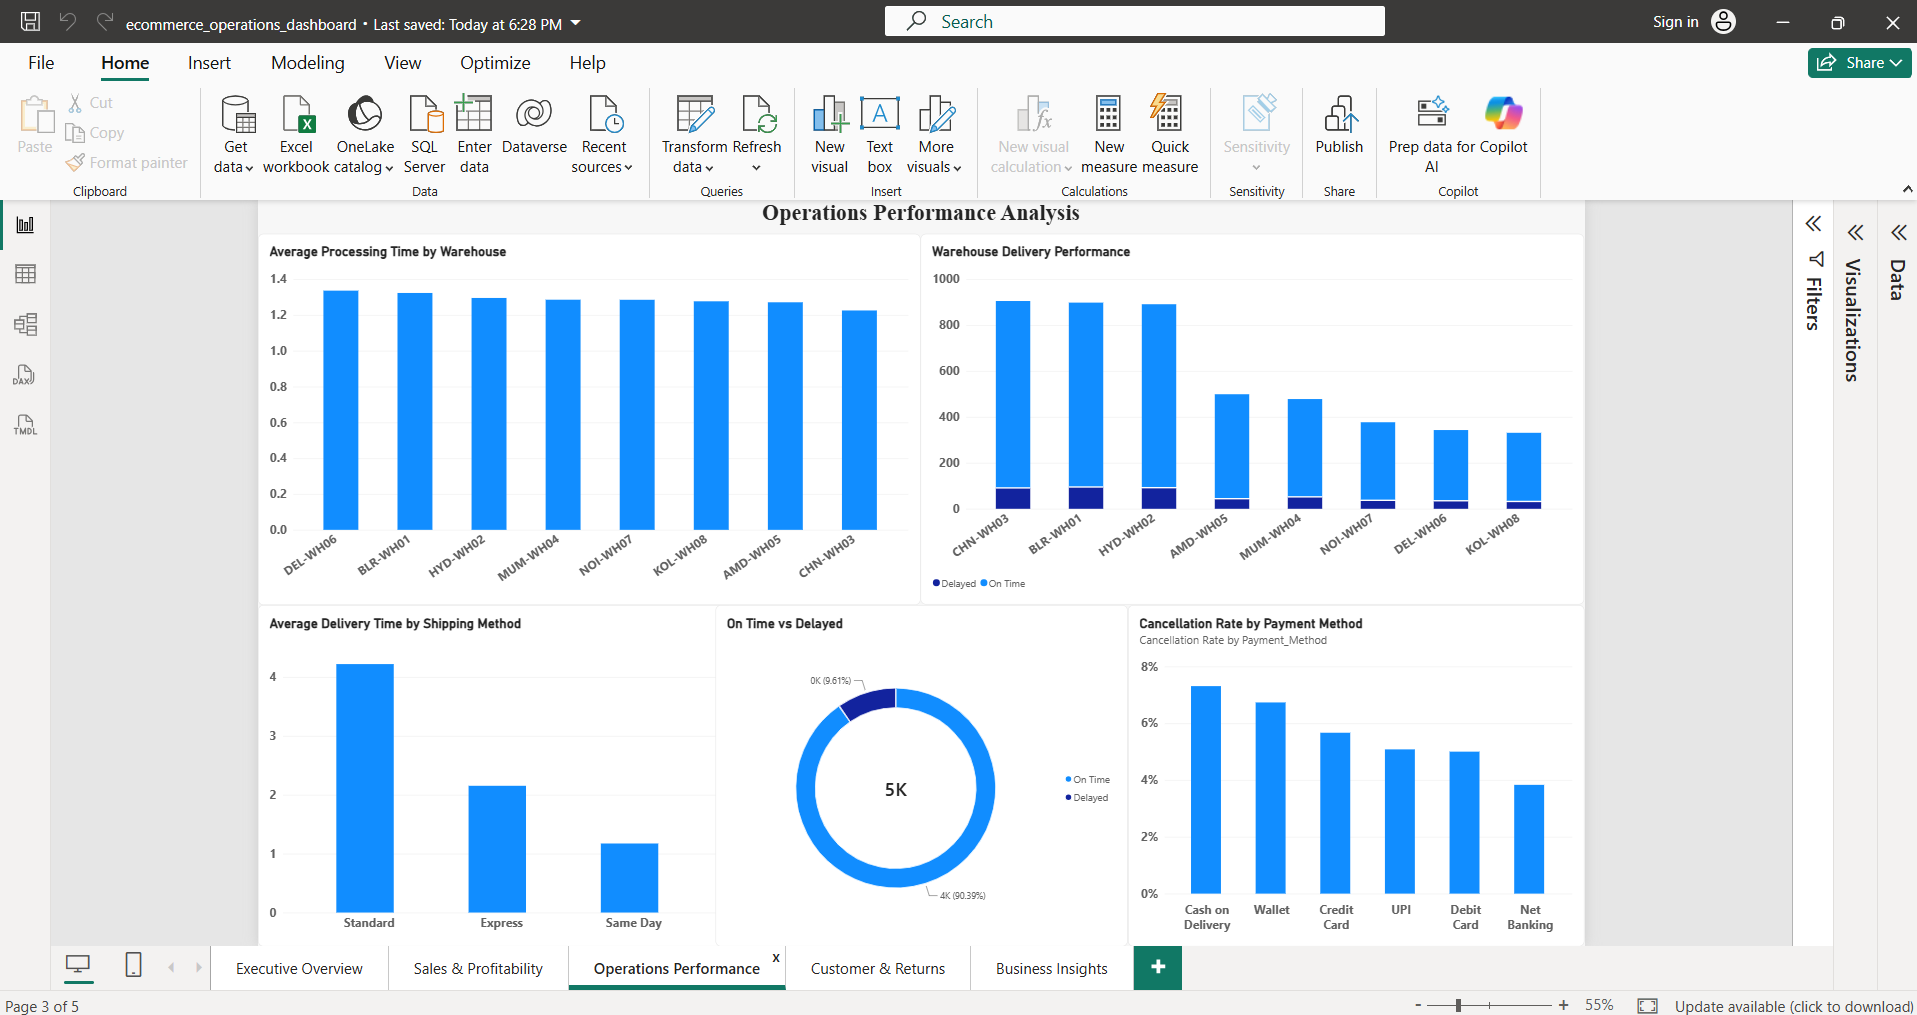

The page's visual inventory and layout, read from the dashboard file:
{"tool":"powerbi","page":{"name":"Operations Performance","canvas":[1920,1080],"ordinal":2},"visuals":[{"type":"textbox","box":[0,0,1920.1,48.9],"z":0},{"type":"clusteredColumnChart","title":"Average Processing Time by Warehouse","fields":{"Category":["ecommerce_operations_analytics.Warehouse"],"Y":["Avg(ecommerce_operations_analytics.Processing_Time_Days)"]},"box":[0,48.9,959.1,537.5],"z":1000},{"type":"clusteredColumnChart","title":"Average Delivery Time by Shipping Method","fields":{"Category":["ecommerce_operations_analytics.Shipping_Method"],"Y":["Avg(ecommerce_operations_analytics.Delivery_Time_Days)"]},"box":[0,586.3,685.9,494],"z":2000},{"type":"donutChart","title":"On Time vs Delayed","fields":{"Category":["ecommerce_operations_analytics.Delivery_Status"],"Y":["ecommerce_operations_analytics.Total Orders"]},"box":[662.3,586.3,597.2,494],"z":3000},{"type":"clusteredColumnChart","title":"Cancellation Rate by Payment Method","fields":{"Category":["ecommerce_operations_analytics.Payment_Method"],"Y":["ecommerce_operations_analytics.Cancellation Rate"]},"box":[1259.5,586.3,660.5,494],"z":3001},{"type":"columnChart","title":"Warehouse Delivery Performance","fields":{"Category":["ecommerce_operations_analytics.Warehouse"],"Series":["ecommerce_operations_analytics.Delivery_Status"],"Y":["ecommerce_operations_analytics.Total Orders"]},"box":[959,49,961,537],"z":3002}]}

Visuals, with their boxes on the page's 1920x1080 design canvas (x1, y1, x2, y2). These are canvas units, not pixel positions in the 1917x1015 screenshot, which may show the page scaled, cropped or inside an application window:
textbox: BBox(0, 0, 1920, 49)
"Average Processing Time by Warehouse" clusteredColumnChart: BBox(0, 49, 959, 586)
"Average Delivery Time by Shipping Method" clusteredColumnChart: BBox(0, 586, 686, 1080)
"On Time vs Delayed" donutChart: BBox(662, 586, 1260, 1080)
"Cancellation Rate by Payment Method" clusteredColumnChart: BBox(1260, 586, 1920, 1080)
"Warehouse Delivery Performance" columnChart: BBox(959, 49, 1920, 586)
